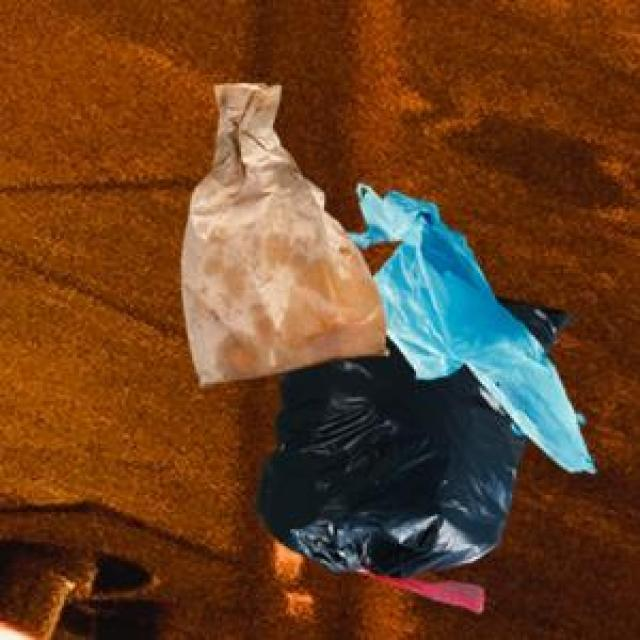miscellaneous trash: (252, 292, 572, 608)
paper: (177, 79, 384, 382)
